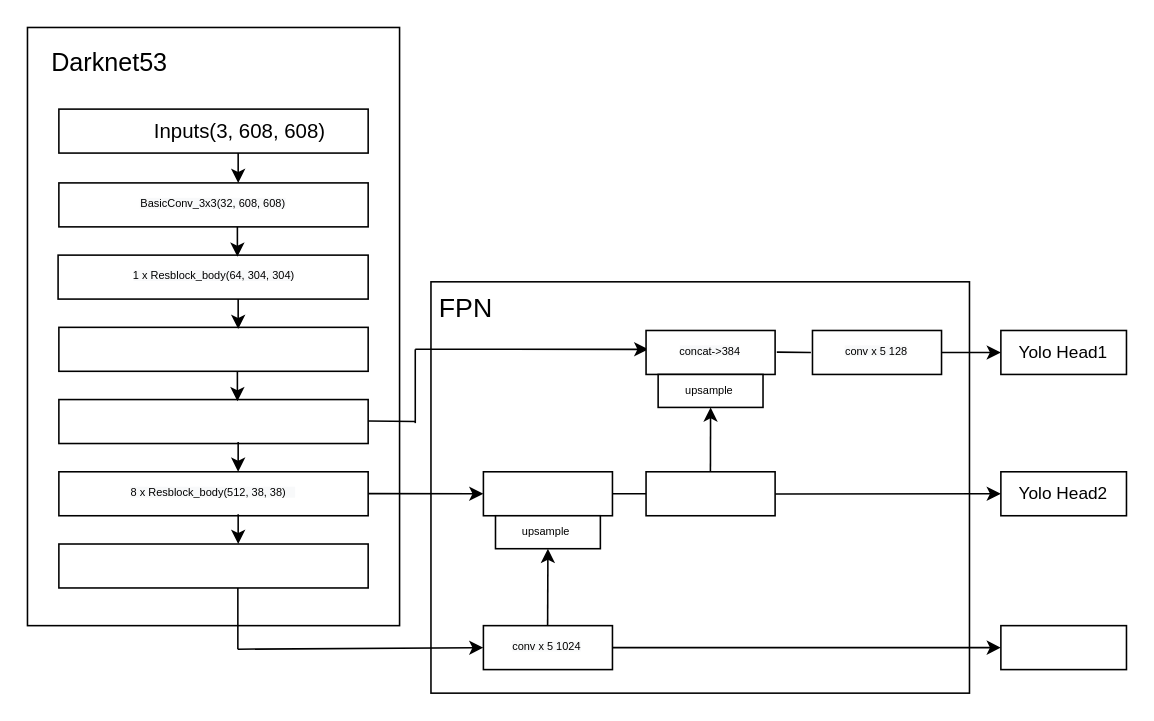
This 1154x721 diagram has some shape labels left out. Each missing label, with the box of its shape:
2 x Resblock_body(128, 152, 152): (57, 326, 368, 371)
4 x Resblock_body(1024, 19, 19): (57, 542, 368, 588)
8 x Resblock_body(256, 76, 76): (57, 398, 368, 444)
concat->768: (482, 470, 612, 516)
conv x 5 256: (644, 470, 775, 516)
Yolo Head3: (999, 624, 1126, 670)
